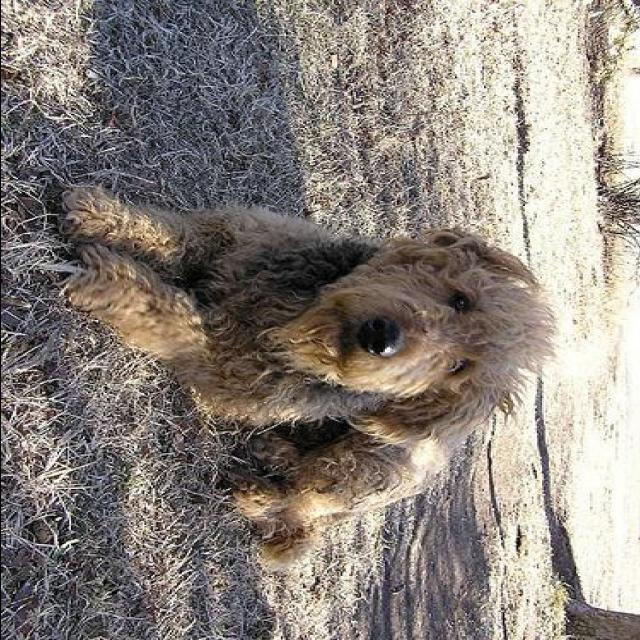airedale: (56, 180, 560, 568)
